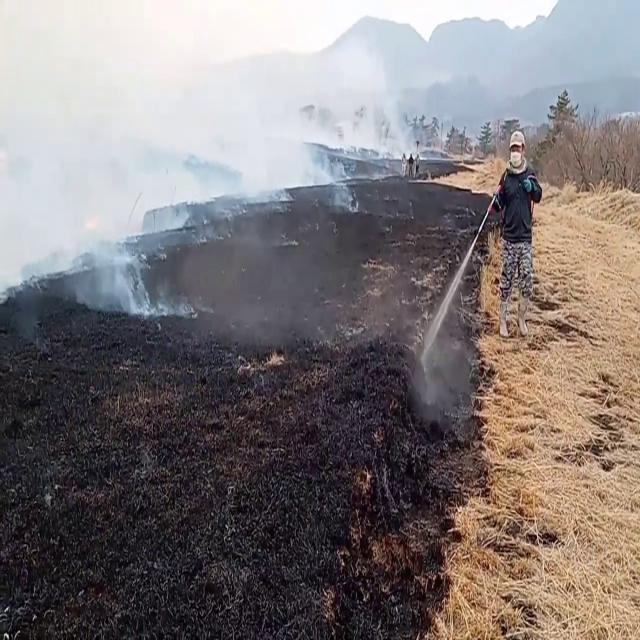Smoke: (6, 0, 418, 270)
